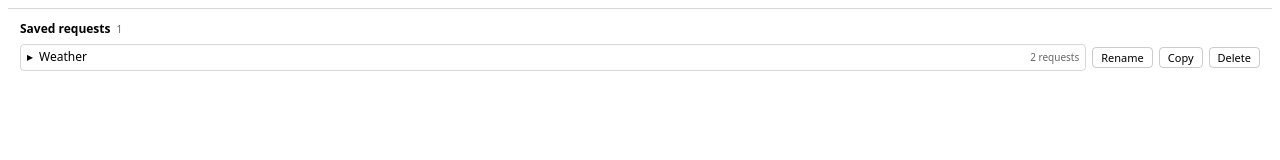
Test: CollectionTree delete, rename and copy › renames a collection in place from the row
expect the text "Weather" is shown: met, box [39,48,87,65]
Click the button "Rename".
click(1123, 57)  # box [1092,46,1153,68]
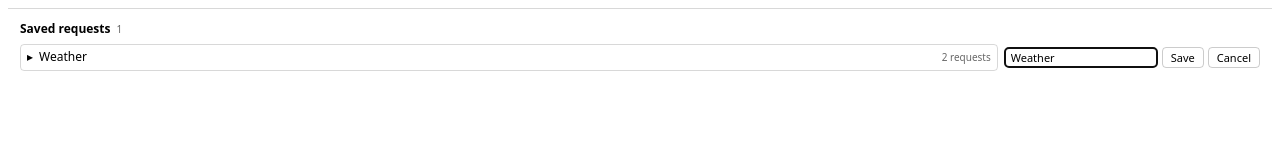
expect the field named "Rename" holds "Weather": met
Replace the text in the field named "Rename" with "  Forecast  " at (1081, 57), box [1004,46,1158,68]
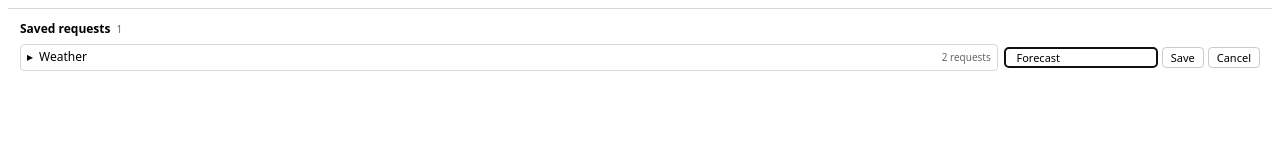
Click the button "Save".
click(1183, 57)  # box [1162,46,1204,68]
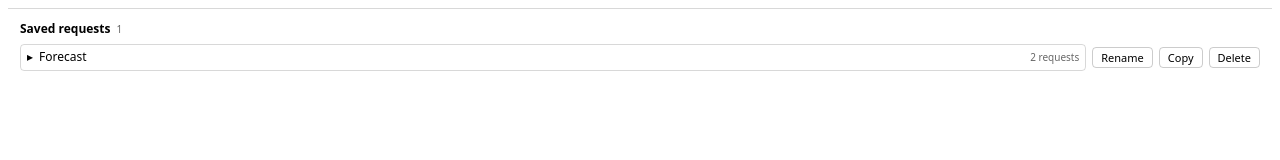
expect the text "Forecast" is shown: met, box [39,48,86,65]
